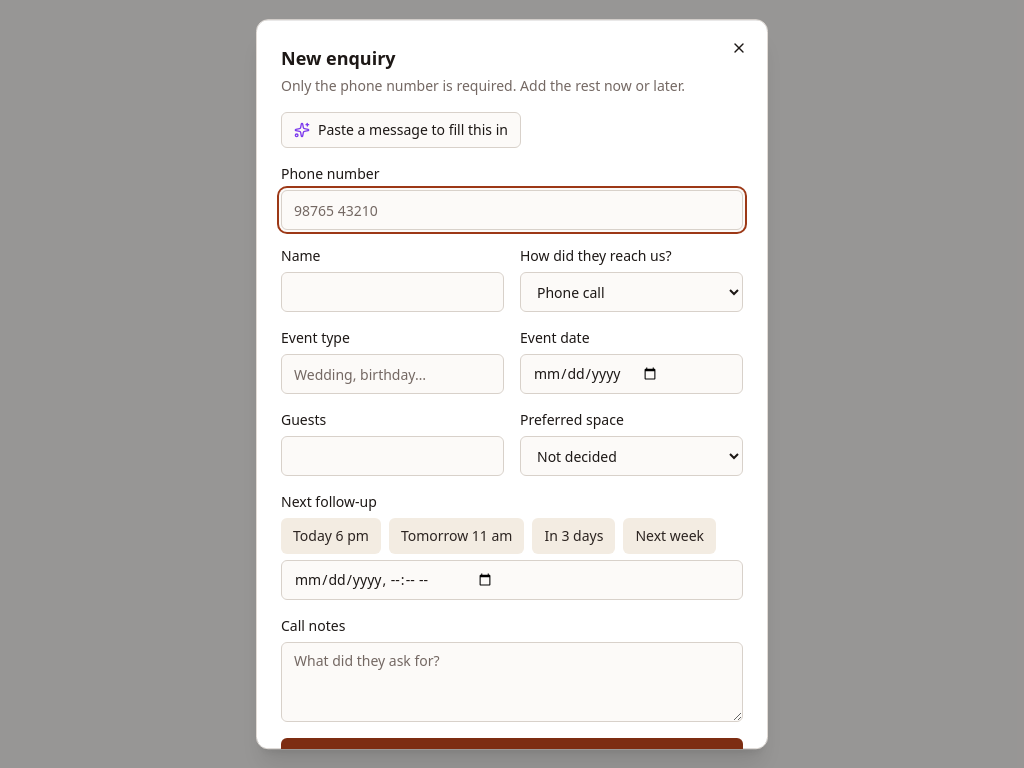
Test: QuickAddDialog › fills empty fields from a pasted message
Type "Typed name" into the field labelled "Name" at (392, 292), box [281, 272, 504, 312]
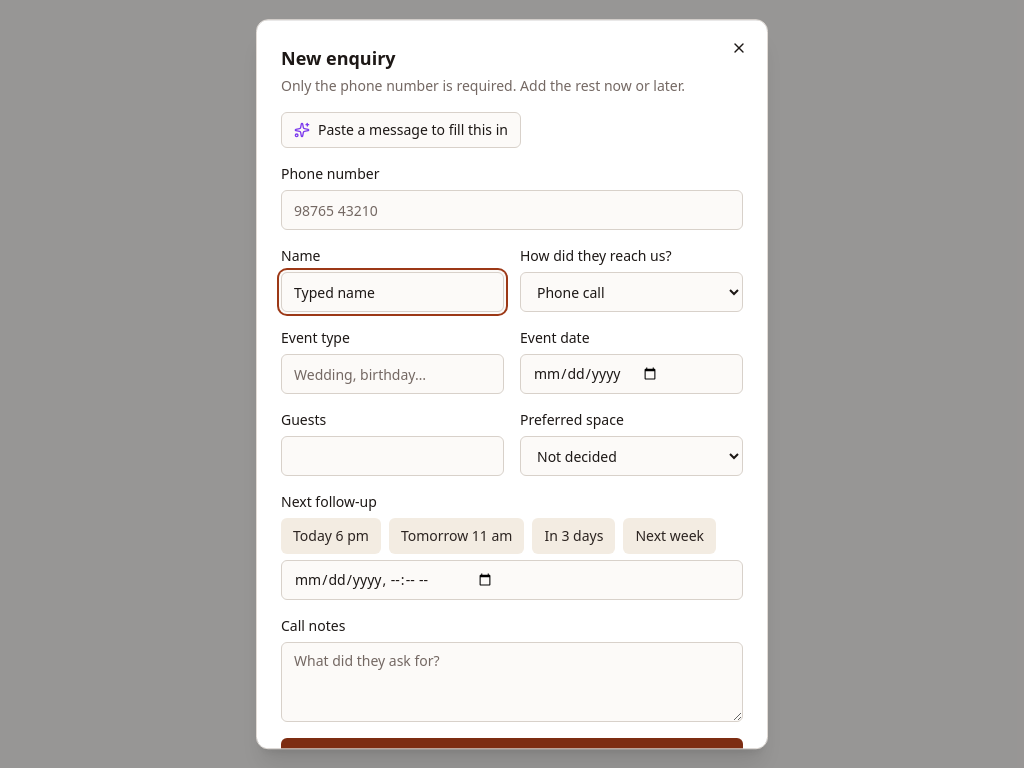
Click the button "Paste a message to fill this in" at (401, 130), box [281, 112, 521, 148]
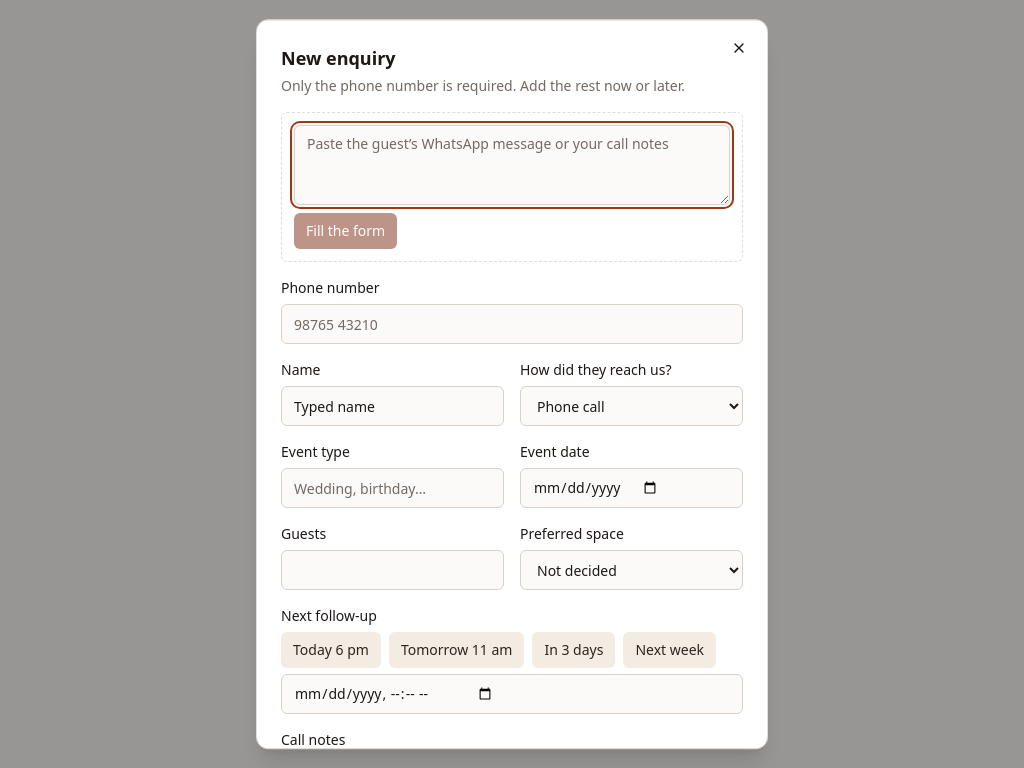
Type "Shaadi 12 Dec, 900 log, pandaal" into the text box labelled "Paste the guest’s WhatsApp message or your call notes" at (512, 165), box [294, 125, 730, 205]
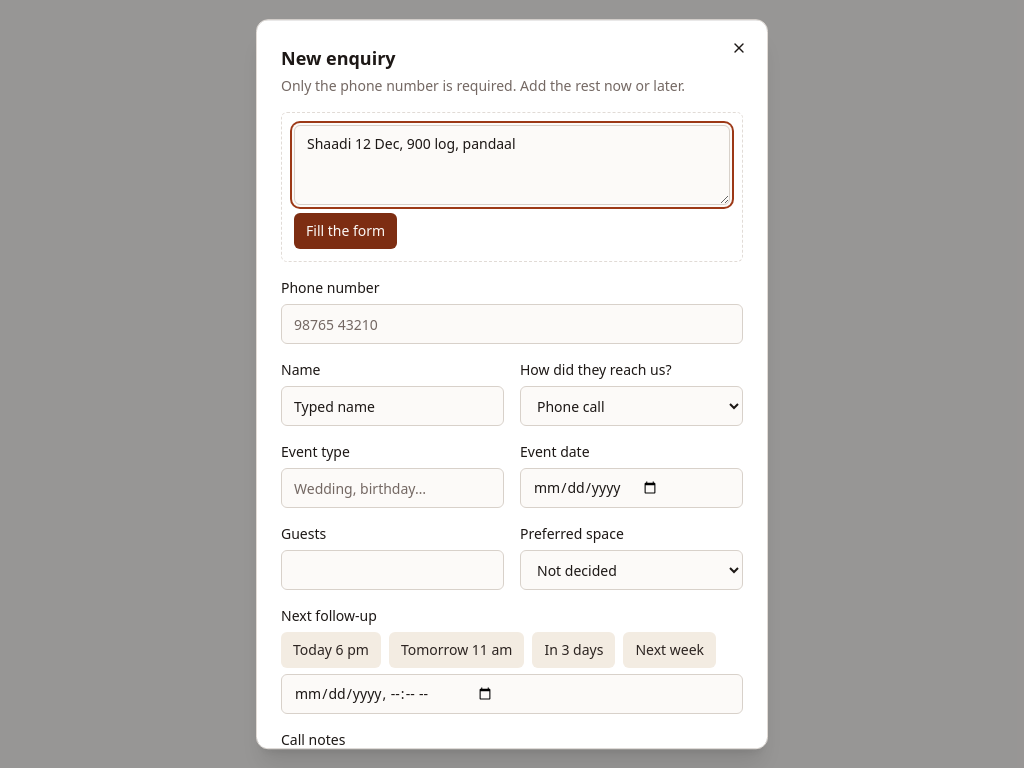
Click the button "Fill the form" at (346, 231), box [294, 213, 397, 249]
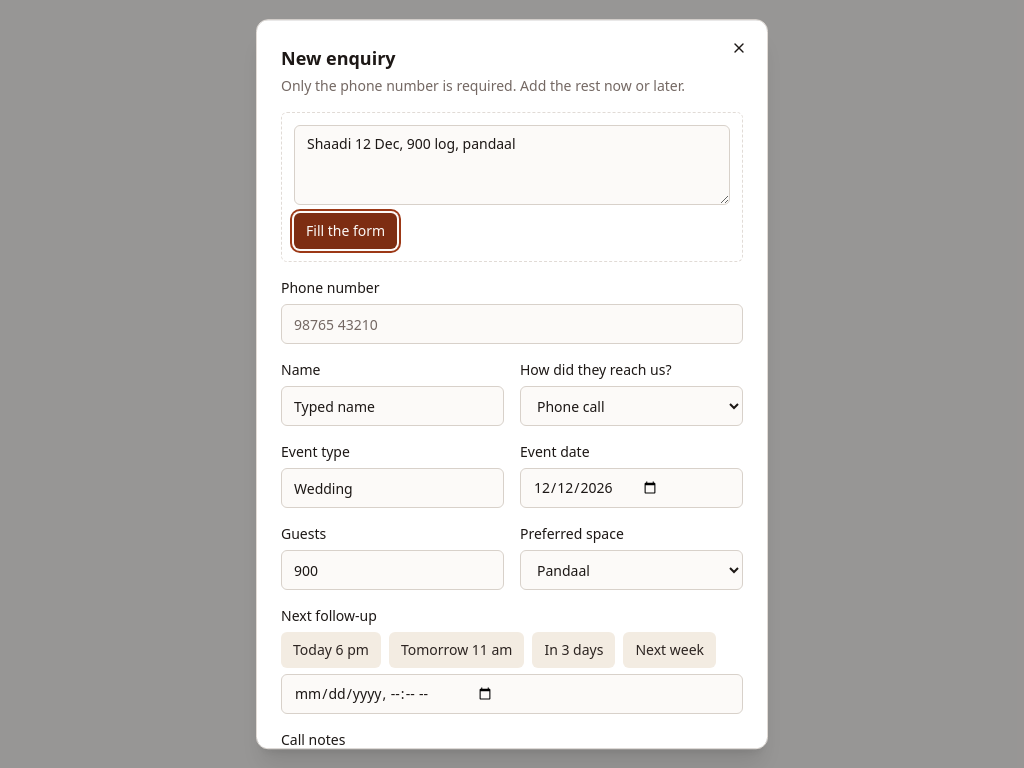
Expected: the field labelled "Event type" holds "Wedding", [281, 468, 504, 508]
Expected: the field labelled "Guests" holds "900", [281, 550, 504, 590]
